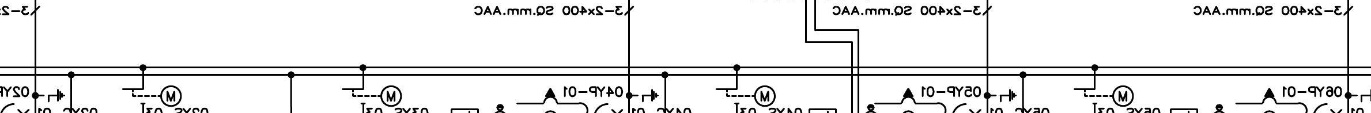115_1way_ds_w_motor: (1073, 85, 1135, 108), (715, 85, 777, 108), (121, 85, 183, 108), (341, 85, 403, 107)
115_gs: (994, 88, 1018, 103), (636, 88, 660, 103), (42, 88, 66, 103)
